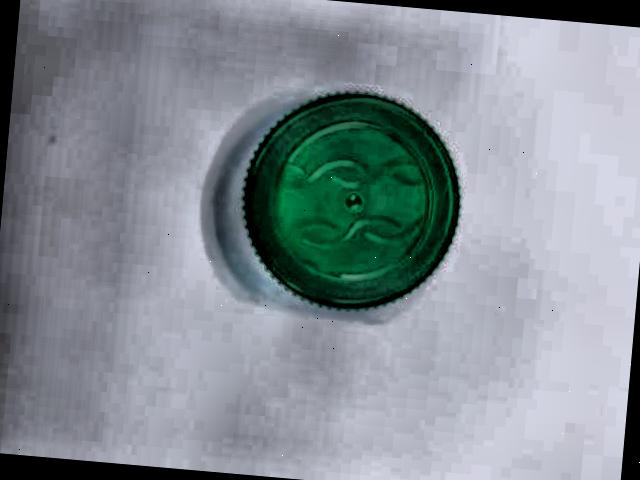Plastic: (215, 79, 462, 319)
